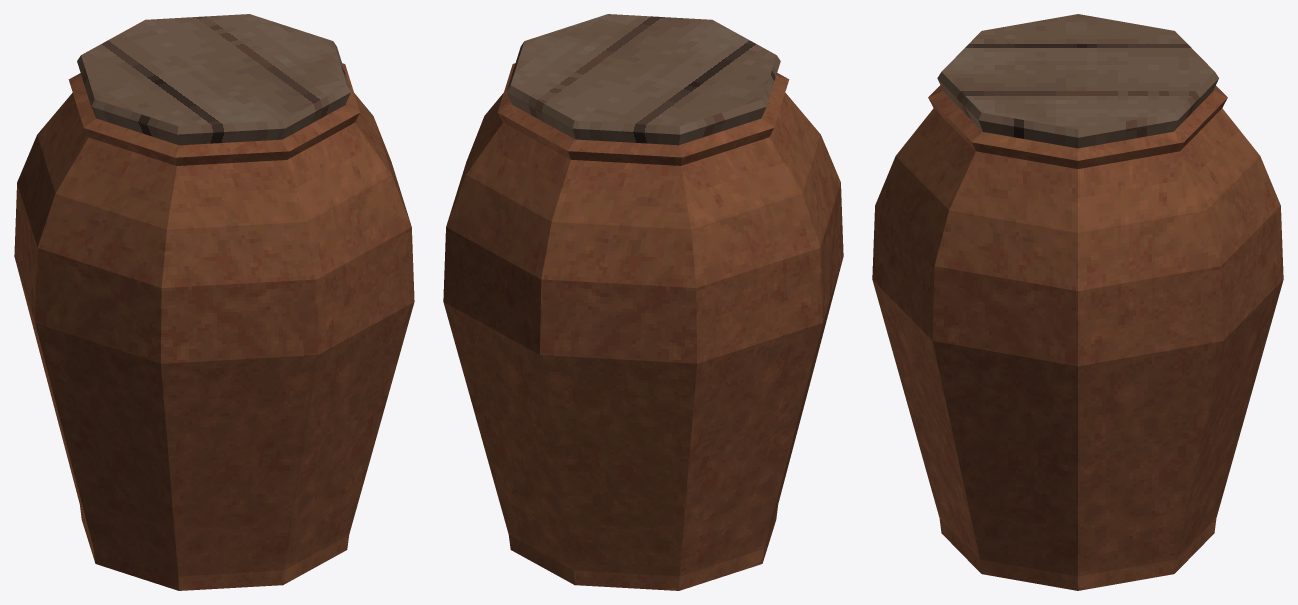
The model's file is terracotta_vase.glb.
The picture shows the model from 3 angles, left to right: view 1: azimuth 30°, elevation 25°; view 2: azimuth 150°, elevation 25°; view 3: azimuth 270°, elevation 25°; orthographic projection.
Parts seen in each view (by area): view 1: terracotta_vase; view 2: terracotta_vase; view 3: terracotta_vase.
Part boxes in pixels (x1=…): terracotta_vase: x1=14, y1=14, x2=414, y2=590; terracotta_vase: x1=443, y1=14, x2=843, y2=590; terracotta_vase: x1=872, y1=14, x2=1283, y2=590.
Bounding box in the file's own units: 0.8397 × 1.04 × 0.8397.
Materials: 2 (2 with a texture image).
